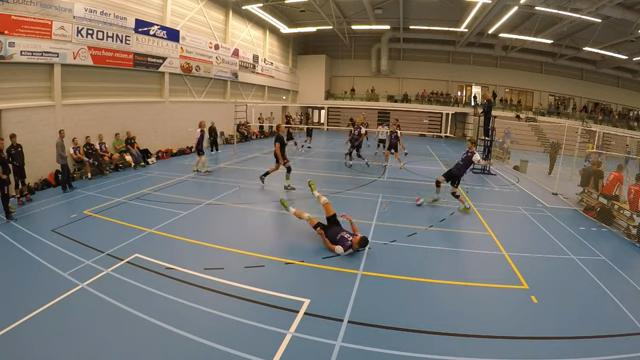difesa: (426, 134, 493, 220)
